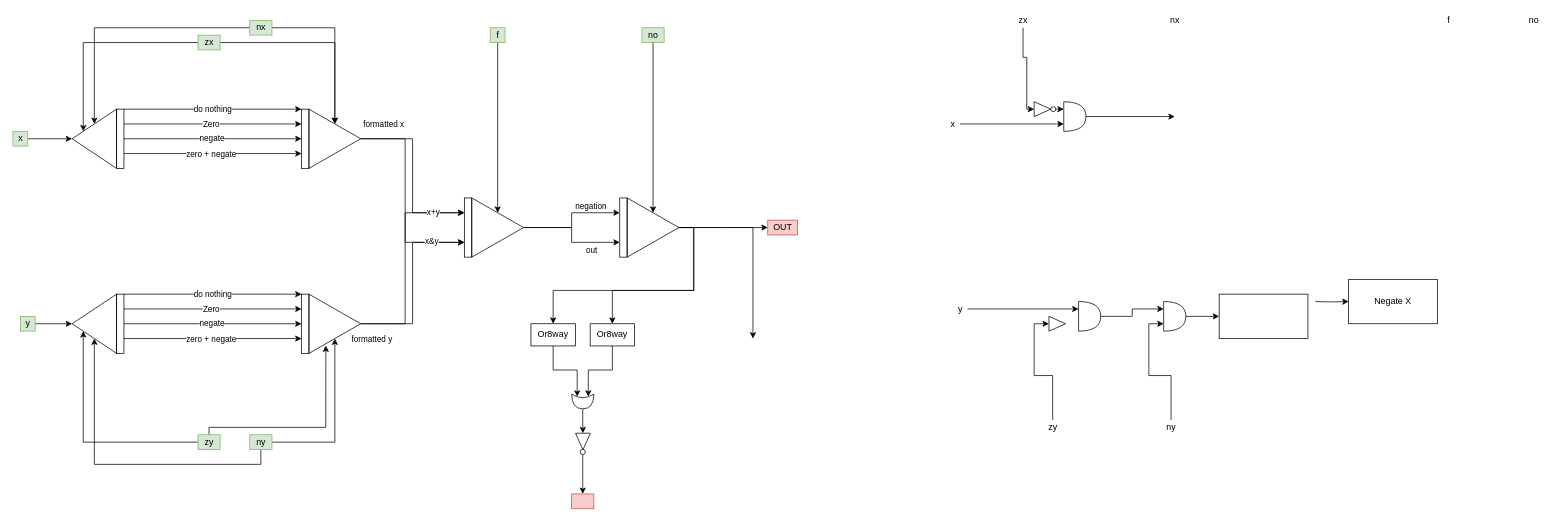
Some shapes in this 1558 by 522 pixel diagram are drawn without their labels. Each missing label, with the box of its shape:
Negate Y: (1218, 293, 1308, 339)
ZR: (571, 493, 594, 509)
